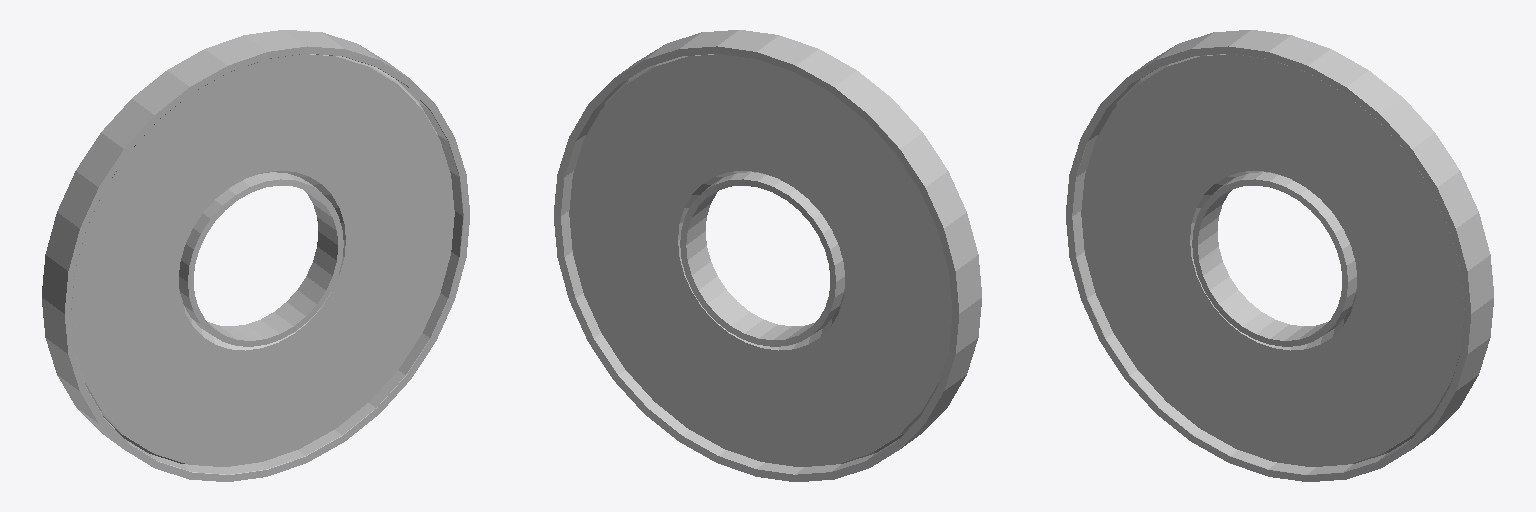
The model's file is coin.obj.
The picture shows the model from 3 angles: view 1: azimuth 30°, elevation 25°; view 2: azimuth 150°, elevation 25°; view 3: azimuth 330°, elevation 25°; orthographic projection.
Parts seen in each view (by area): view 1: the_coin; view 2: the_coin; view 3: the_coin.
Part boxes in pixels (x1,y1,x2,y2): the_coin: (42, 30, 469, 481); the_coin: (554, 30, 981, 481); the_coin: (1066, 30, 1493, 481).
Bounding box in the file's own units: 0.2425 × 0.2425 × 0.0238.